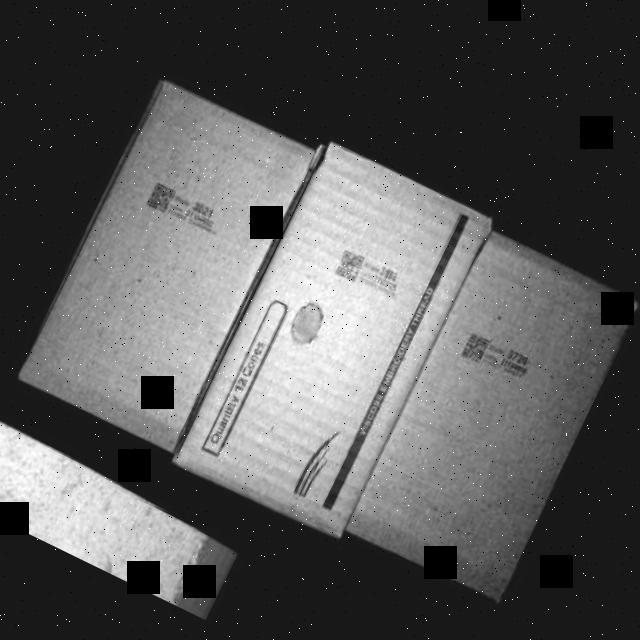box: (177, 144, 493, 540), (15, 74, 326, 460), (347, 228, 640, 606)
